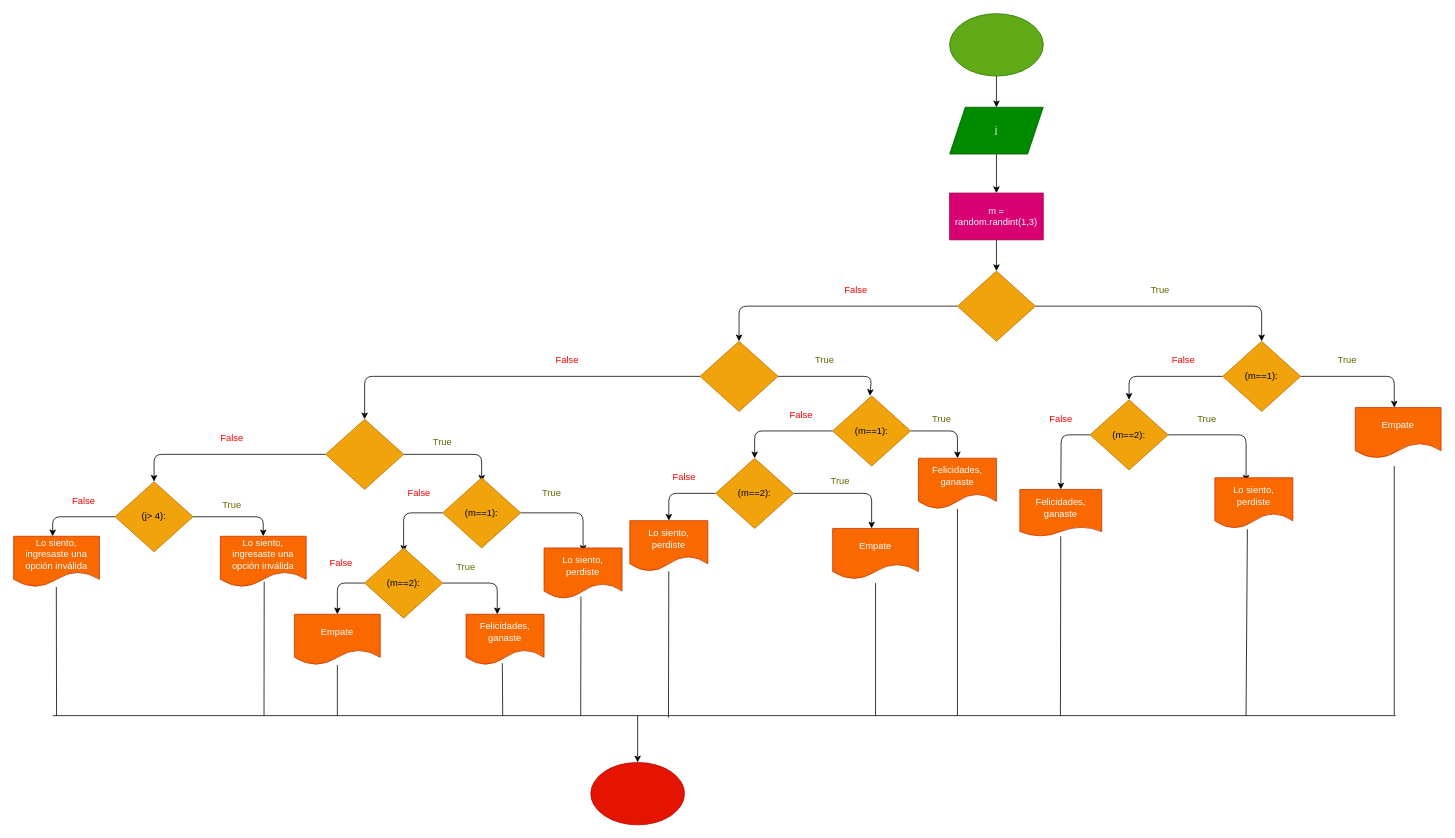
Image size: 1455x838. Some labels were removed from this diagram. The shapes that lost their labels are listed below. From the top down, each one's centre as x and y in pixels, then its label:
point (996, 44): Inicio
point (996, 305): (j==1):
point (738, 375): (j==2):
point (364, 453): (j==3).
point (637, 793): Fin
